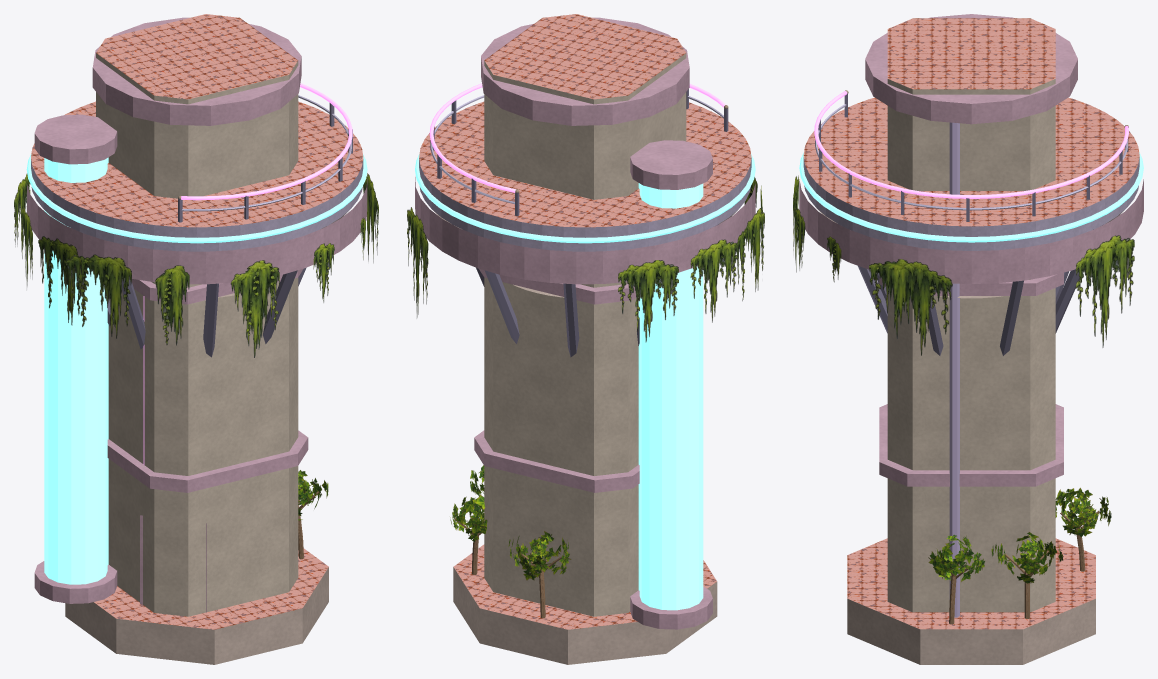
The model's file is TOWER_F.glb.
3 views of the same model, side by side, from view 1: azimuth 30°, elevation 25°; view 2: azimuth 150°, elevation 25°; view 3: azimuth 270°, elevation 25° (orthographic).
Parts seen in each view (by area): view 1: BT_TOWER_F_Body, BT_TOWER_F_Moss18, BT_TOWER_F_Deck18_Rail0_Posts, BT_TOWER_F_Deck18_Rail0_Rail, BT_TOWER_F_Trees; view 2: BT_TOWER_F_Body, BT_TOWER_F_Moss18, BT_TOWER_F_Trees, BT_TOWER_F_Deck18_Rail0_Posts, BT_TOWER_F_Deck18_Rail0_Rail; view 3: BT_TOWER_F_Body, BT_TOWER_F_Moss18, BT_TOWER_F_Trees, BT_TOWER_F_Deck18_Rail0_Posts, BT_TOWER_F_Deck18_Rail0_Rail.
Part boxes in pixels (x1,y1,x2,y2): BT_TOWER_F_Body: (26,14,367,664); BT_TOWER_F_Moss18: (14,173,378,357); BT_TOWER_F_Deck18_Rail0_Posts: (178,95,352,222); BT_TOWER_F_Deck18_Rail0_Rail: (181,83,352,200); BT_TOWER_F_Trees: (298,470,328,559); BT_TOWER_F_Body: (415,14,755,664); BT_TOWER_F_Moss18: (407,177,764,342); BT_TOWER_F_Trees: (450,465,571,618); BT_TOWER_F_Deck18_Rail0_Posts: (430,89,728,216); BT_TOWER_F_Deck18_Rail0_Rail: (429,83,725,192); BT_TOWER_F_Body: (799,14,1143,664); BT_TOWER_F_Moss18: (793,175,1134,355); BT_TOWER_F_Trees: (928,487,1111,624); BT_TOWER_F_Deck18_Rail0_Posts: (815,93,1128,221); BT_TOWER_F_Deck18_Rail0_Rail: (814,91,1128,198).
Bounding box in the file's own units: 13.09 × 22 × 12.52.
Materials: 14 (6 with a texture image).
